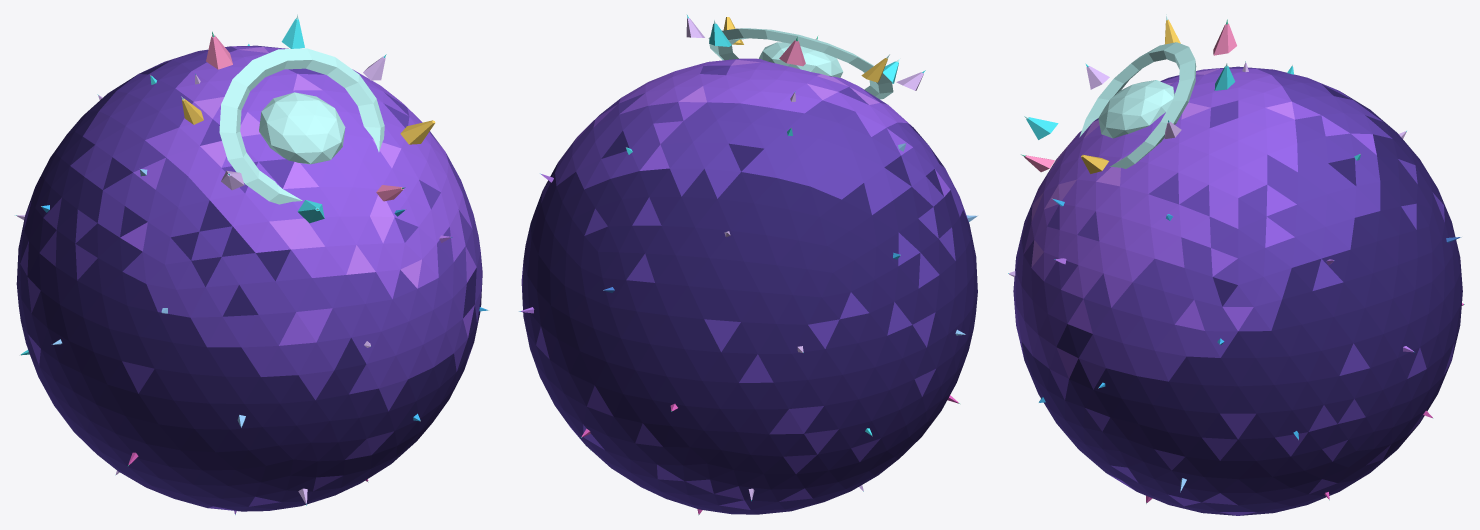
The model's file is Crystal_09.fbx.
3 renders of one model, left to right at view 1: azimuth 30°, elevation 25°; view 2: azimuth 150°, elevation 25°; view 3: azimuth 270°, elevation 25°, orthographic. The views are drawn at different scales.
Visible parts, largest first — view 1: Crystal_09; view 2: Crystal_09; view 3: Crystal_09.
Part boxes in pixels (box(x1,y1,x2,y2)): Crystal_09: box(15, 14, 489, 514); Crystal_09: box(519, 15, 977, 515); Crystal_09: box(1008, 14, 1464, 515).
Bounding box in the file's own units: 6.19 × 6.74 × 6.12.
Materials: 1 (1 with a texture image).
